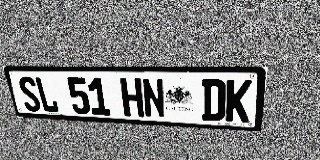1: (86, 78, 111, 116)
5: (66, 77, 92, 115)
D: (201, 79, 226, 121)
H: (120, 78, 144, 117)
K: (225, 80, 252, 123)
L: (34, 77, 60, 113)
N: (142, 78, 166, 118)
S: (17, 77, 43, 112)
